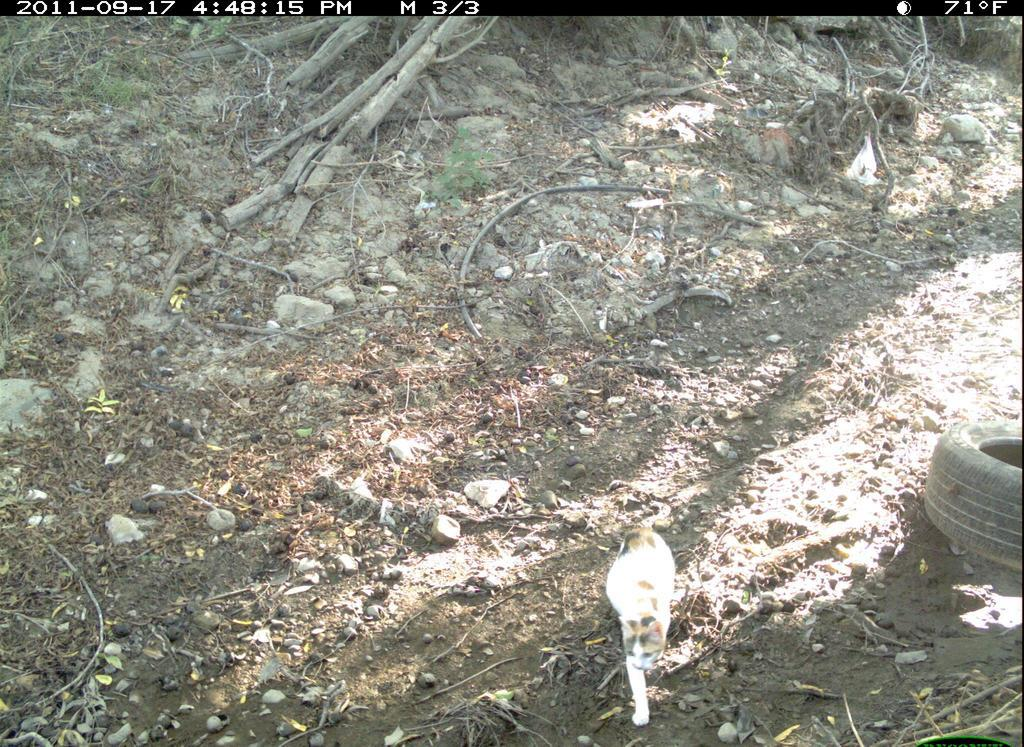cat: (597, 514, 698, 728)
